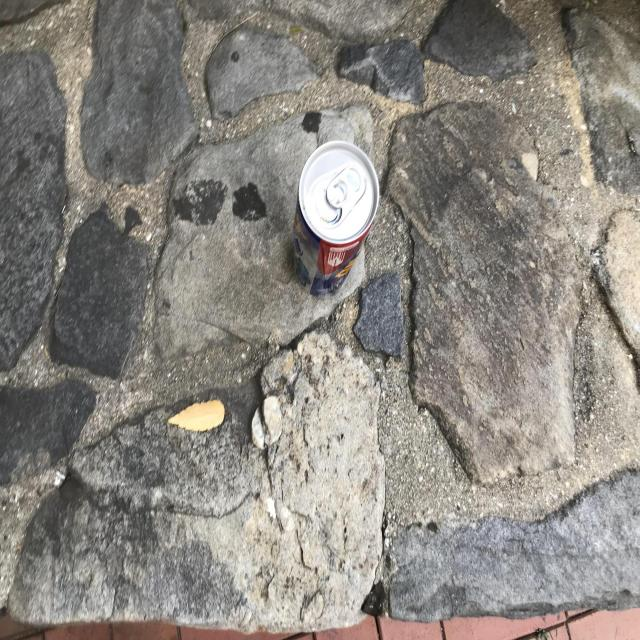can: (294, 139, 380, 296)
